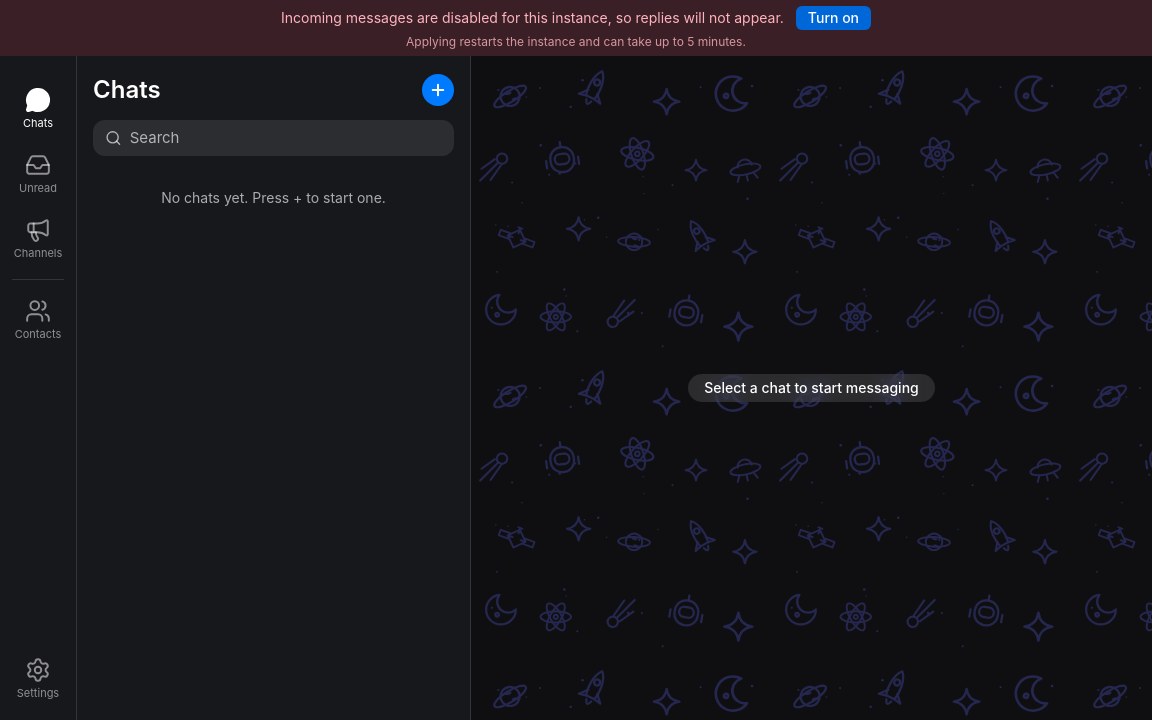
Test: notification settings banner › shows an error when the settings change fails
Expected: the message shows "Incoming messages are disabled", [281,9,784,26]
Click the button "Turn on" at (834, 18), box [796,6,871,30]
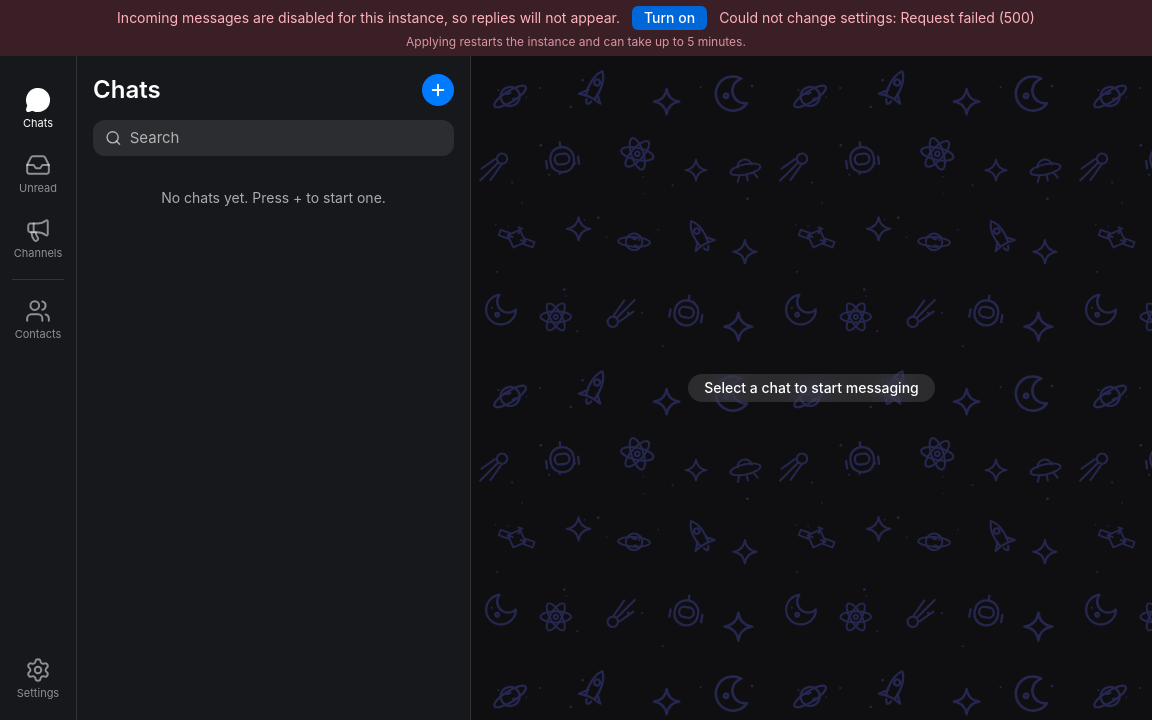
Result: the text "Could not change settings: Request failed (500)" is shown at [719,8,1035,28]
